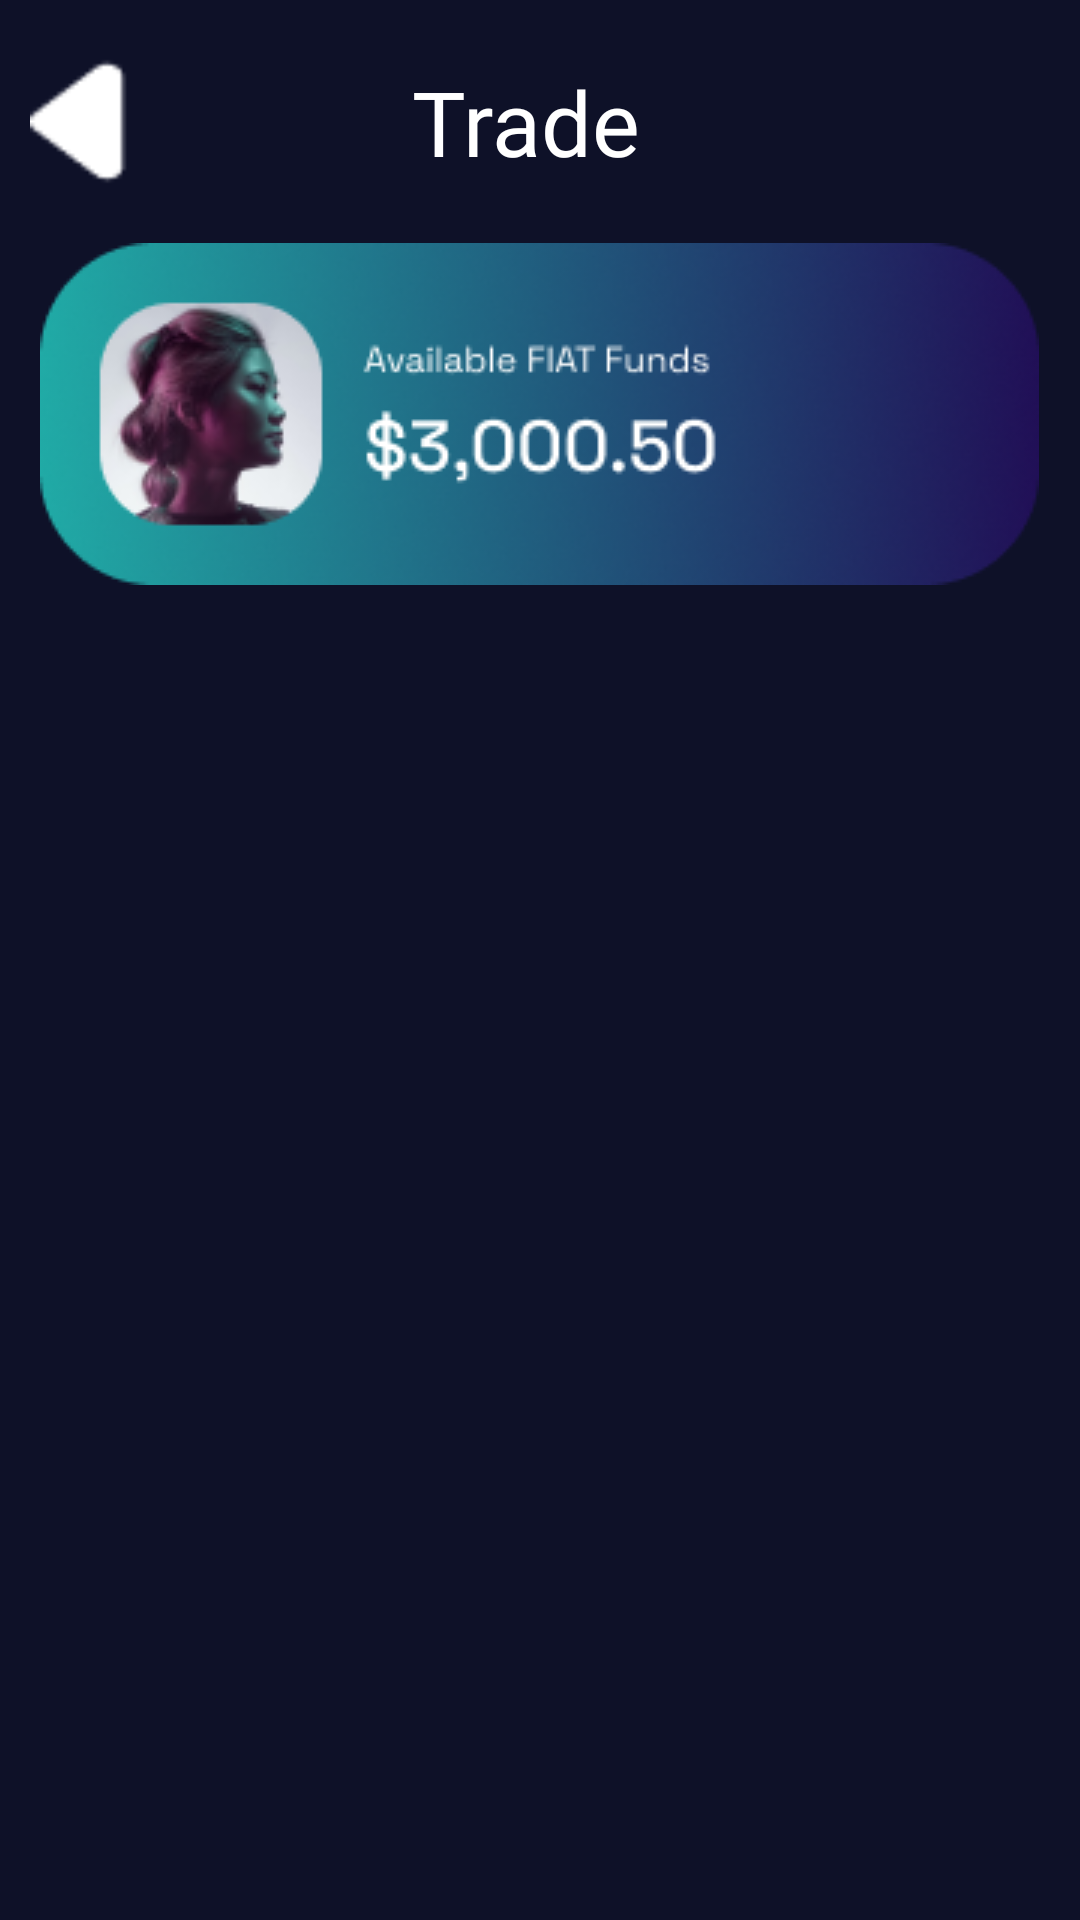

Named icons in this screenshot (1080*1920) and their bounding boxes, (x1, y1, x2, y2):
backbtndrawable: (30, 61, 126, 182)
